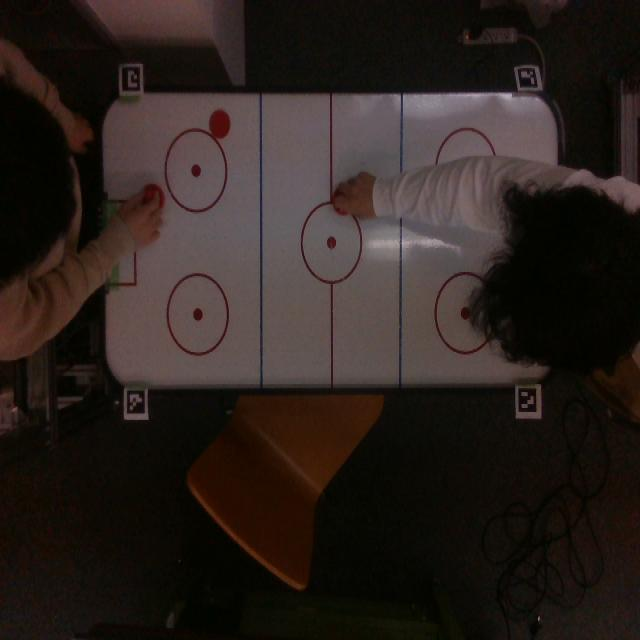puck: (209, 109, 231, 139)
